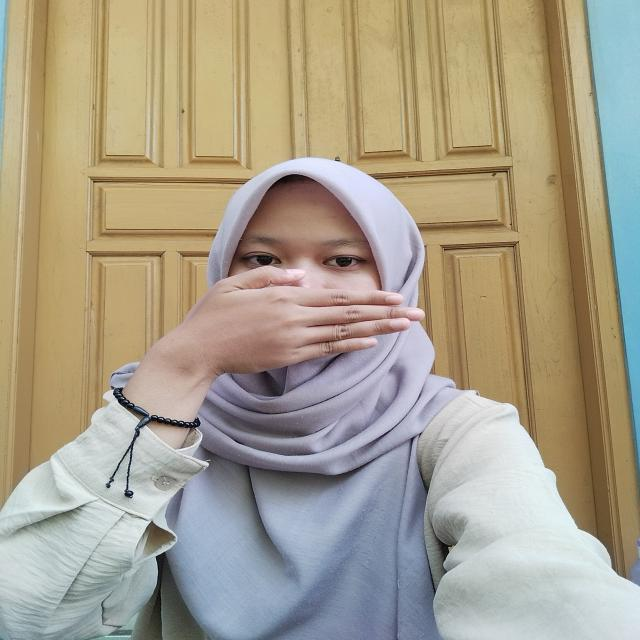buruk: (96, 270, 423, 414)
